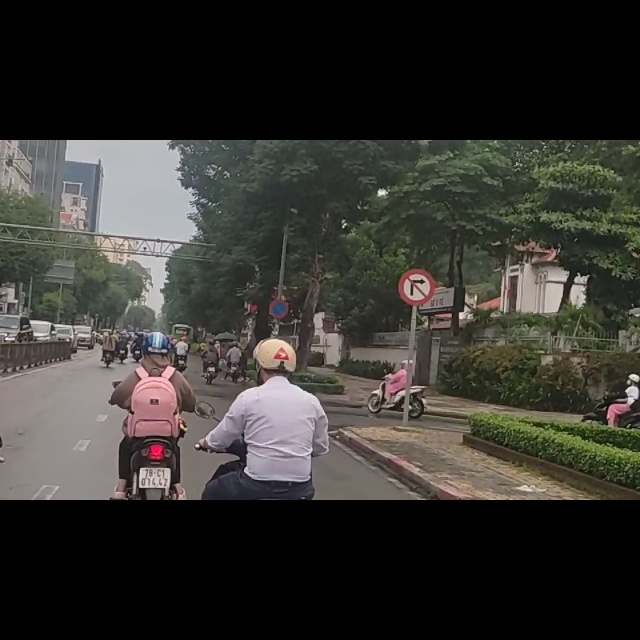bien_cam: (399, 228, 435, 290), (270, 282, 289, 316)
